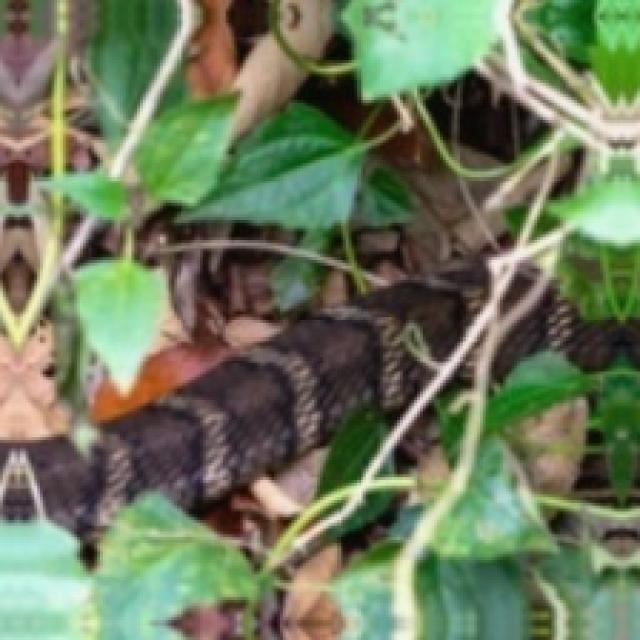king cobra: (77, 231, 563, 569)
